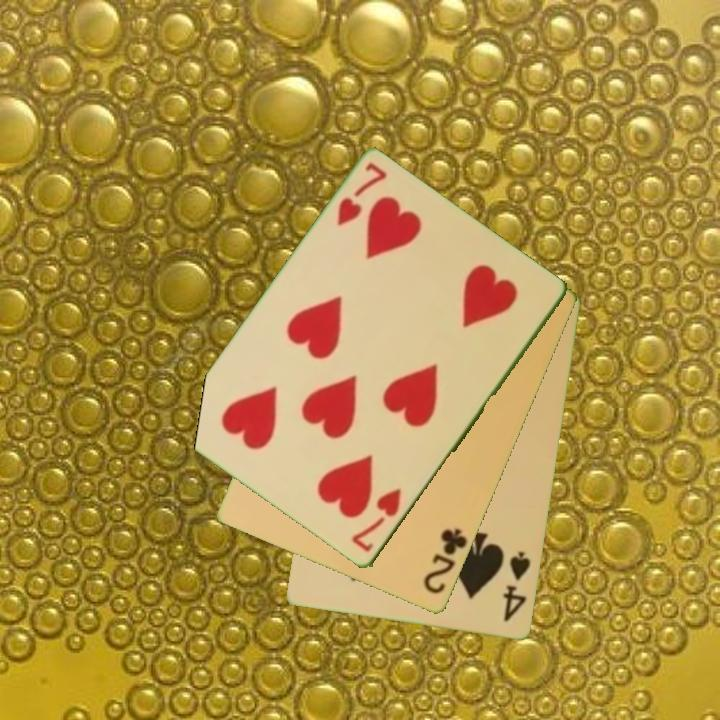2c: (420, 525, 471, 598)
4s: (499, 548, 534, 625)
7h: (333, 159, 390, 230), (348, 485, 404, 556)
